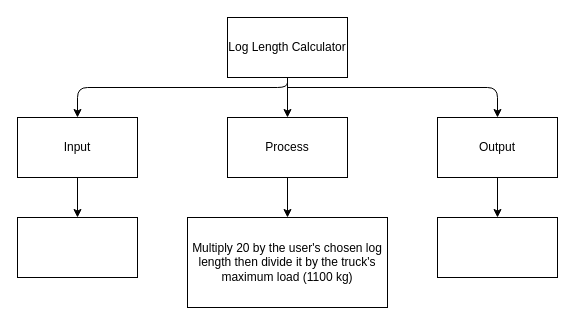
Some shapes in this 575 by 325 pixel diagram are drawn without their labels. The centre of each missing label's shape, as x and y in pixels:
"Log length (0.25 m, 0.5 m, 1.0 m)" belongs at point 77,247.
"Show the amount of logs the truck can carry" belongs at point 497,247.
